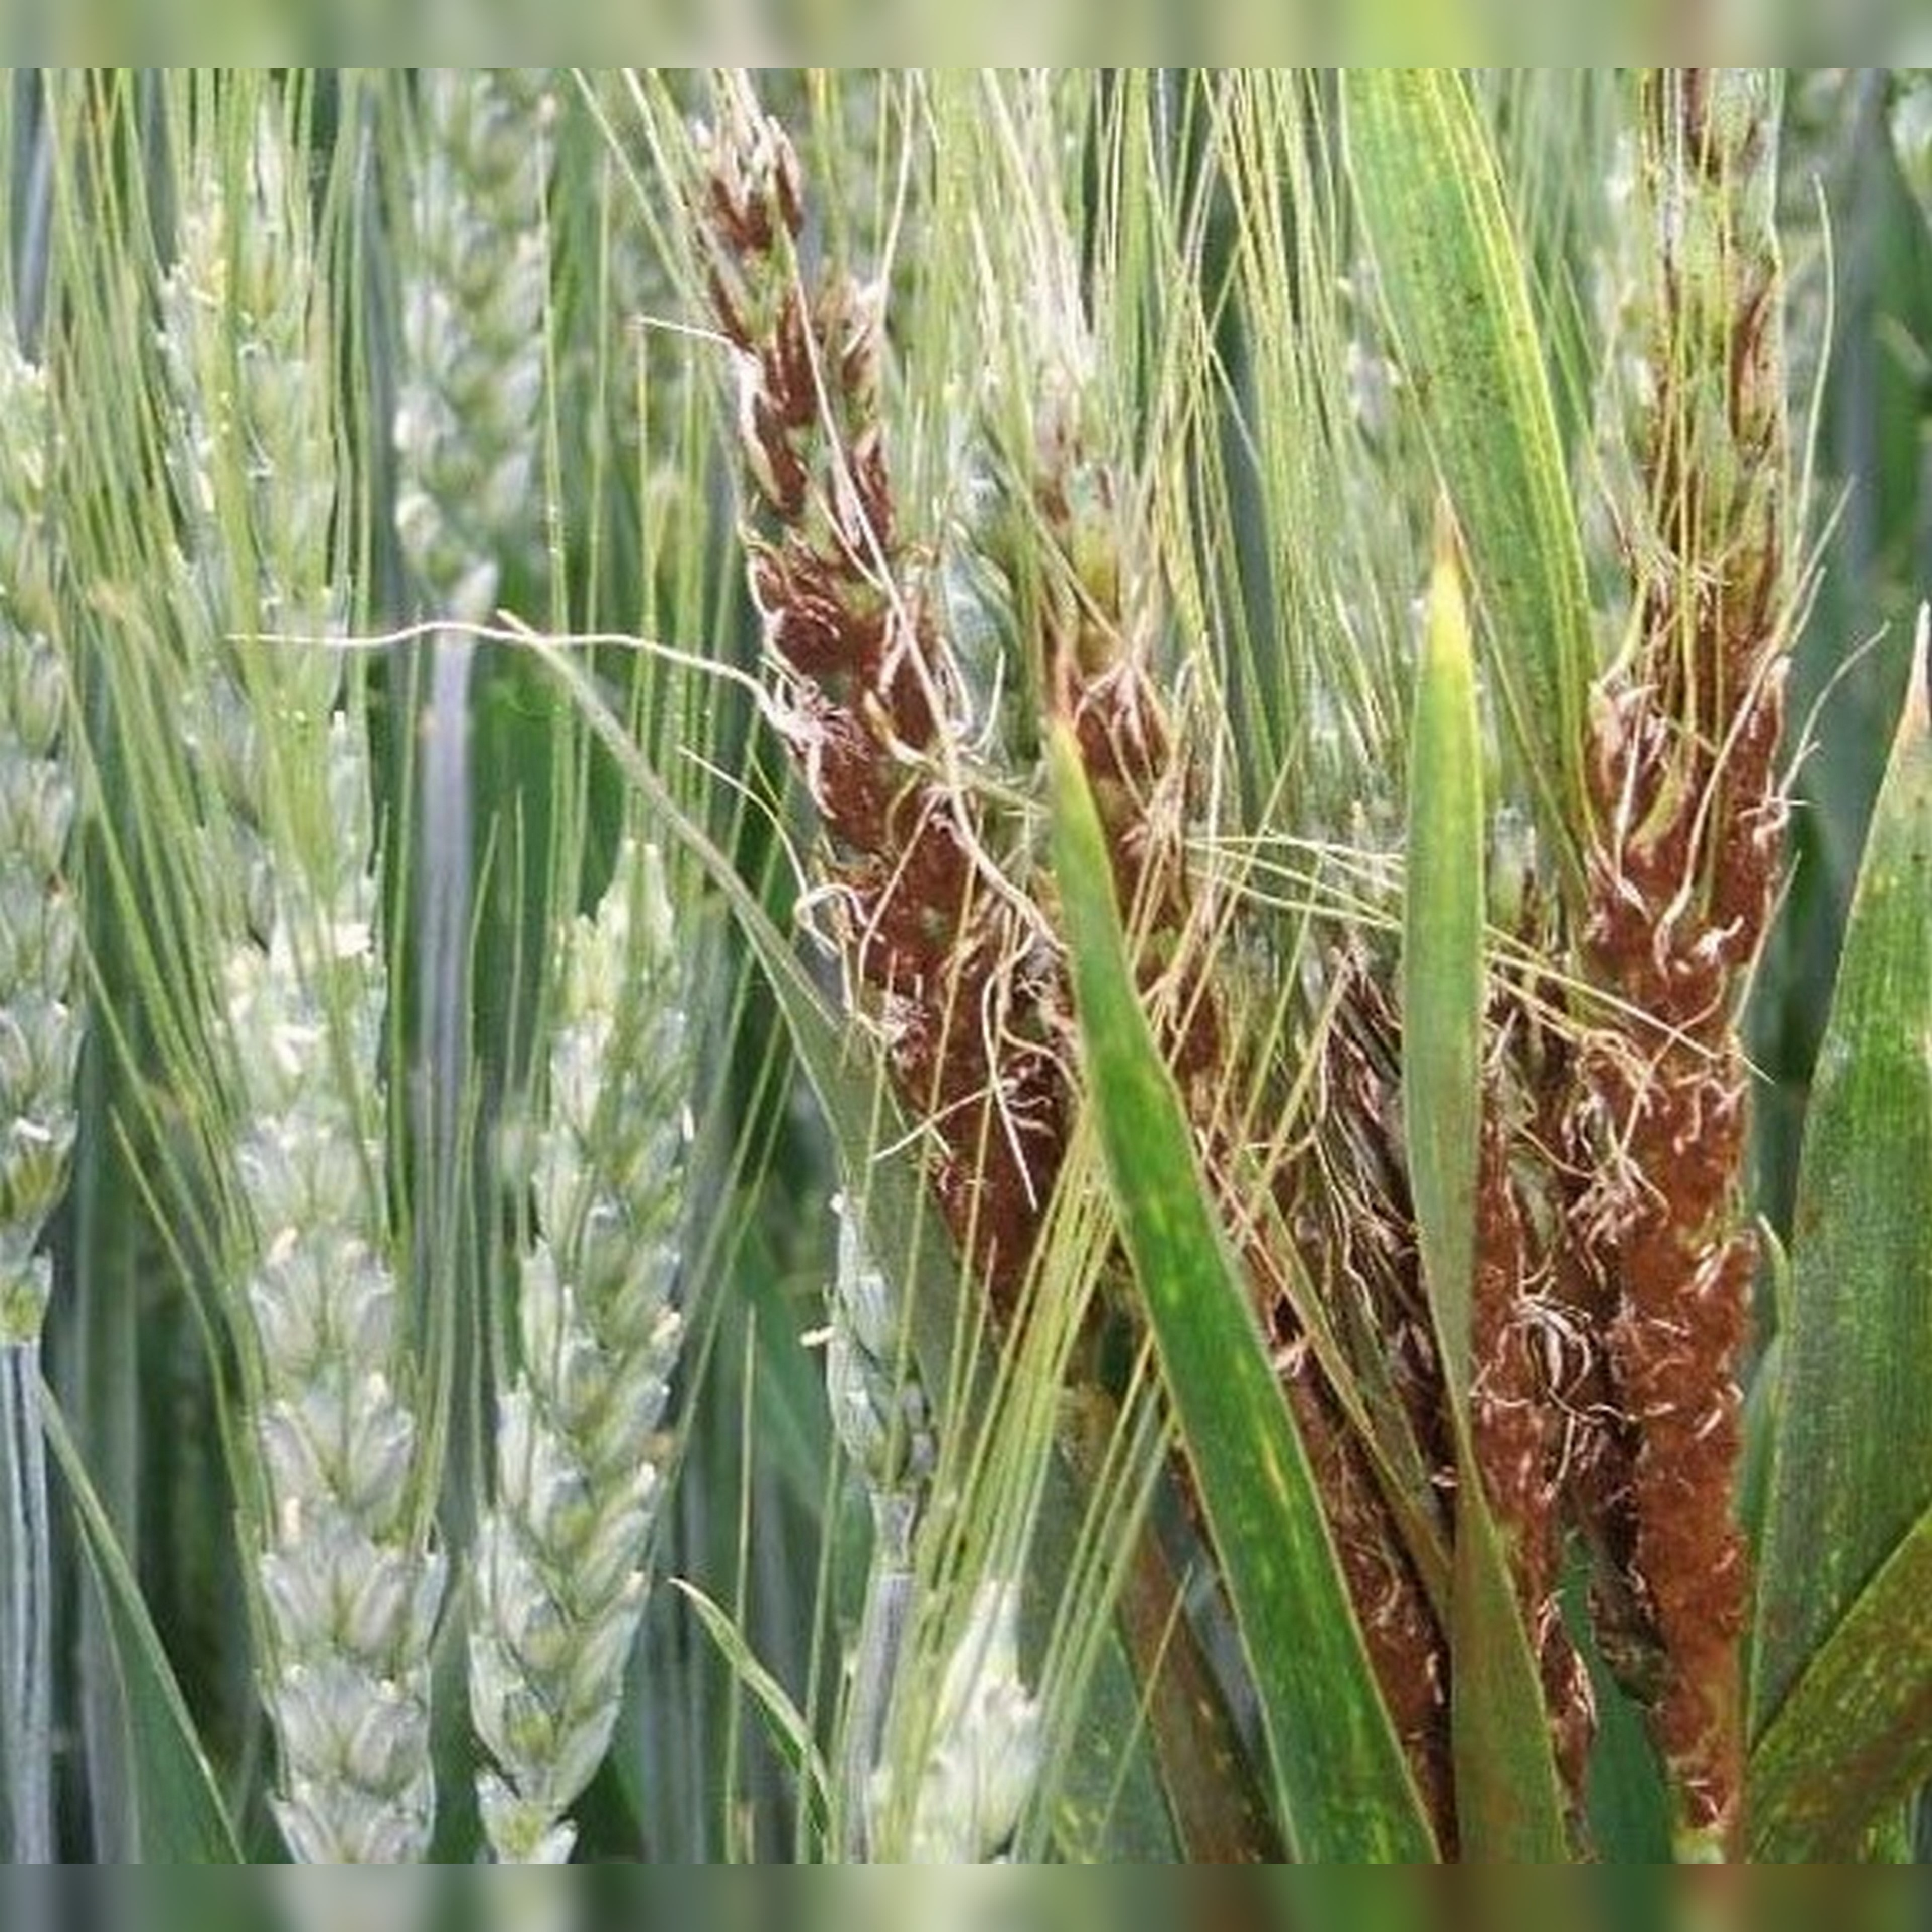Wheat Loose Smut: (741, 317, 1785, 1706)
